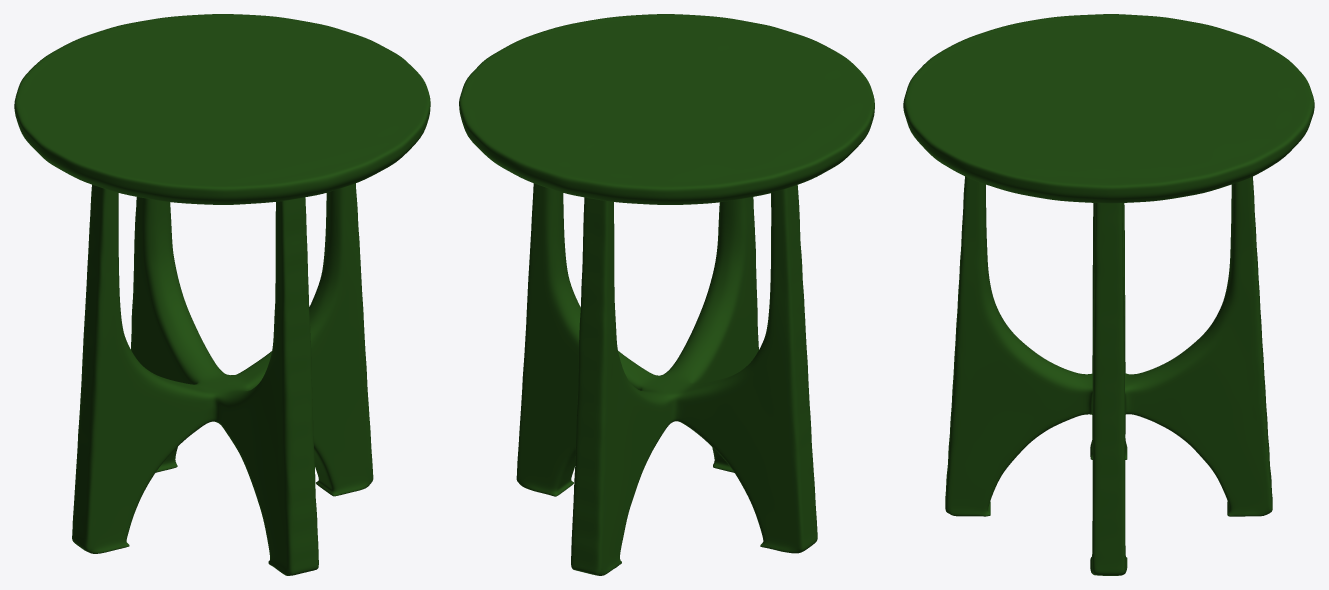
Rendered from Table.glb.
3 renders of one model, left to right at view 1: azimuth 30°, elevation 25°; view 2: azimuth 150°, elevation 25°; view 3: azimuth 270°, elevation 25°, orthographic.
Visible parts, largest first — view 1: Table; view 2: Table; view 3: Table.
Boxes of the visible parts, x1,y1,x2,y2 form: Table: [14, 14, 430, 575]; Table: [459, 14, 874, 575]; Table: [903, 14, 1314, 575].
Bounding box in the file's own units: 0.508 × 0.5588 × 0.508.
